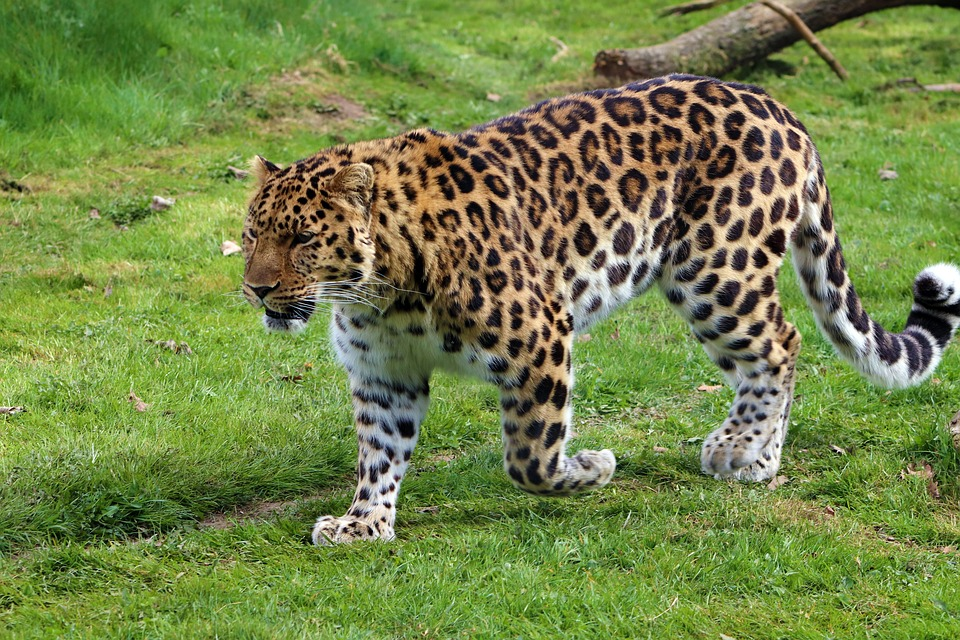amur_leopard: (232, 71, 960, 556)
